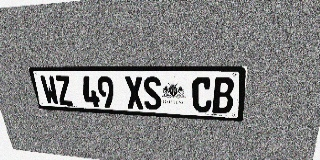4: (80, 76, 100, 107)
9: (96, 76, 116, 108)
B: (212, 77, 235, 114)
C: (192, 77, 213, 113)
S: (142, 76, 162, 110)
W: (40, 75, 60, 105)
X: (124, 76, 144, 109)
Z: (54, 76, 74, 106)
